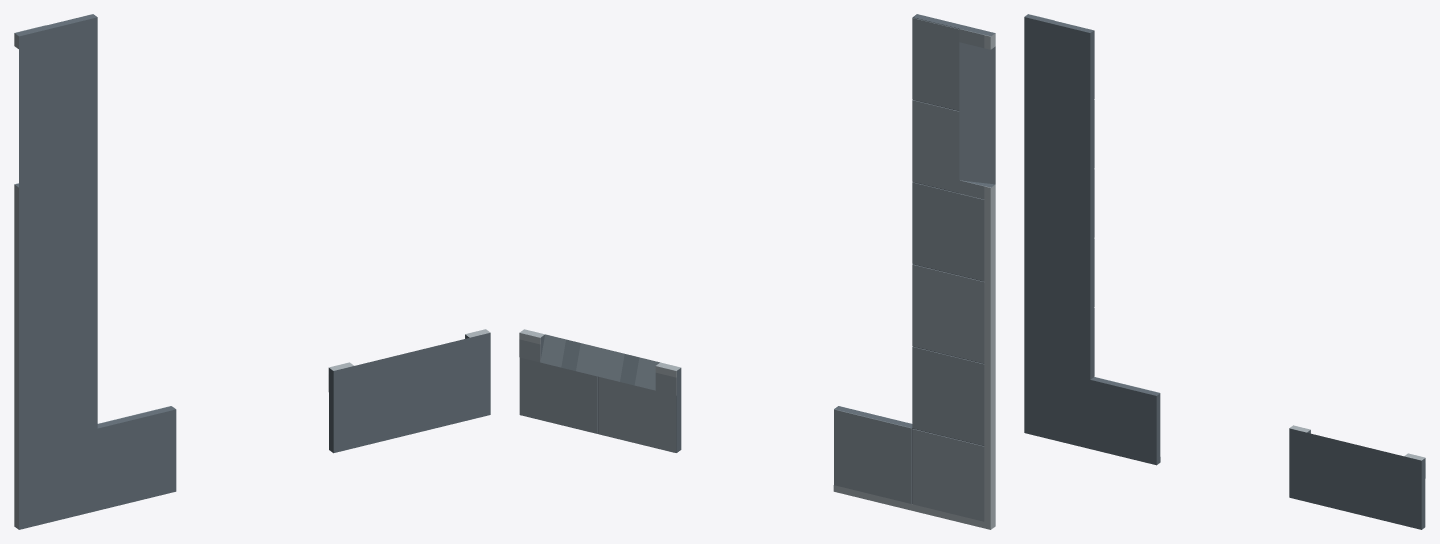
The model's file is gotham_sidewalks.glb.
3 views of the same model, side by side, from view 1: azimuth 30°, elevation 25°; view 2: azimuth 150°, elevation 25°; view 3: azimuth 330°, elevation 25° (orthographic). The views are drawn at different scales.
Visible parts, largest first — view 1: Gotham_Sidewalk_Corner, Gotham_Sidewalk_Straight, Gotham_Sidewalk_Driveway, Gotham_Sidewalk_Curb_Ramp; view 2: Gotham_Sidewalk_Corner, Gotham_Sidewalk_Driveway, Gotham_Sidewalk_Curb_Ramp, Gotham_Sidewalk_Straight; view 3: Gotham_Sidewalk_Corner, Gotham_Sidewalk_Curb_Ramp, Gotham_Sidewalk_Straight, Gotham_Sidewalk_Driveway.
Boxes of the visible parts, left/top/right/bottom form: Gotham_Sidewalk_Corner: left=14, top=346, right=176, bottom=529; Gotham_Sidewalk_Straight: left=14, top=182, right=97, bottom=365; Gotham_Sidewalk_Driveway: left=328, top=329, right=490, bottom=453; Gotham_Sidewalk_Curb_Ramp: left=14, top=14, right=97, bottom=200; Gotham_Sidewalk_Corner: left=833, top=346, right=995, bottom=529; Gotham_Sidewalk_Driveway: left=519, top=329, right=681, bottom=452; Gotham_Sidewalk_Curb_Ramp: left=912, top=14, right=995, bottom=200; Gotham_Sidewalk_Straight: left=912, top=182, right=995, bottom=365; Gotham_Sidewalk_Corner: left=1024, top=294, right=1160, bottom=465; Gotham_Sidewalk_Curb_Ramp: left=1024, top=14, right=1094, bottom=171; Gotham_Sidewalk_Straight: left=1024, top=155, right=1094, bottom=310; Gotham_Sidewalk_Driveway: left=1289, top=425, right=1425, bottom=529.
Size of the model in its own units: 9 by 9 by 0.16.
